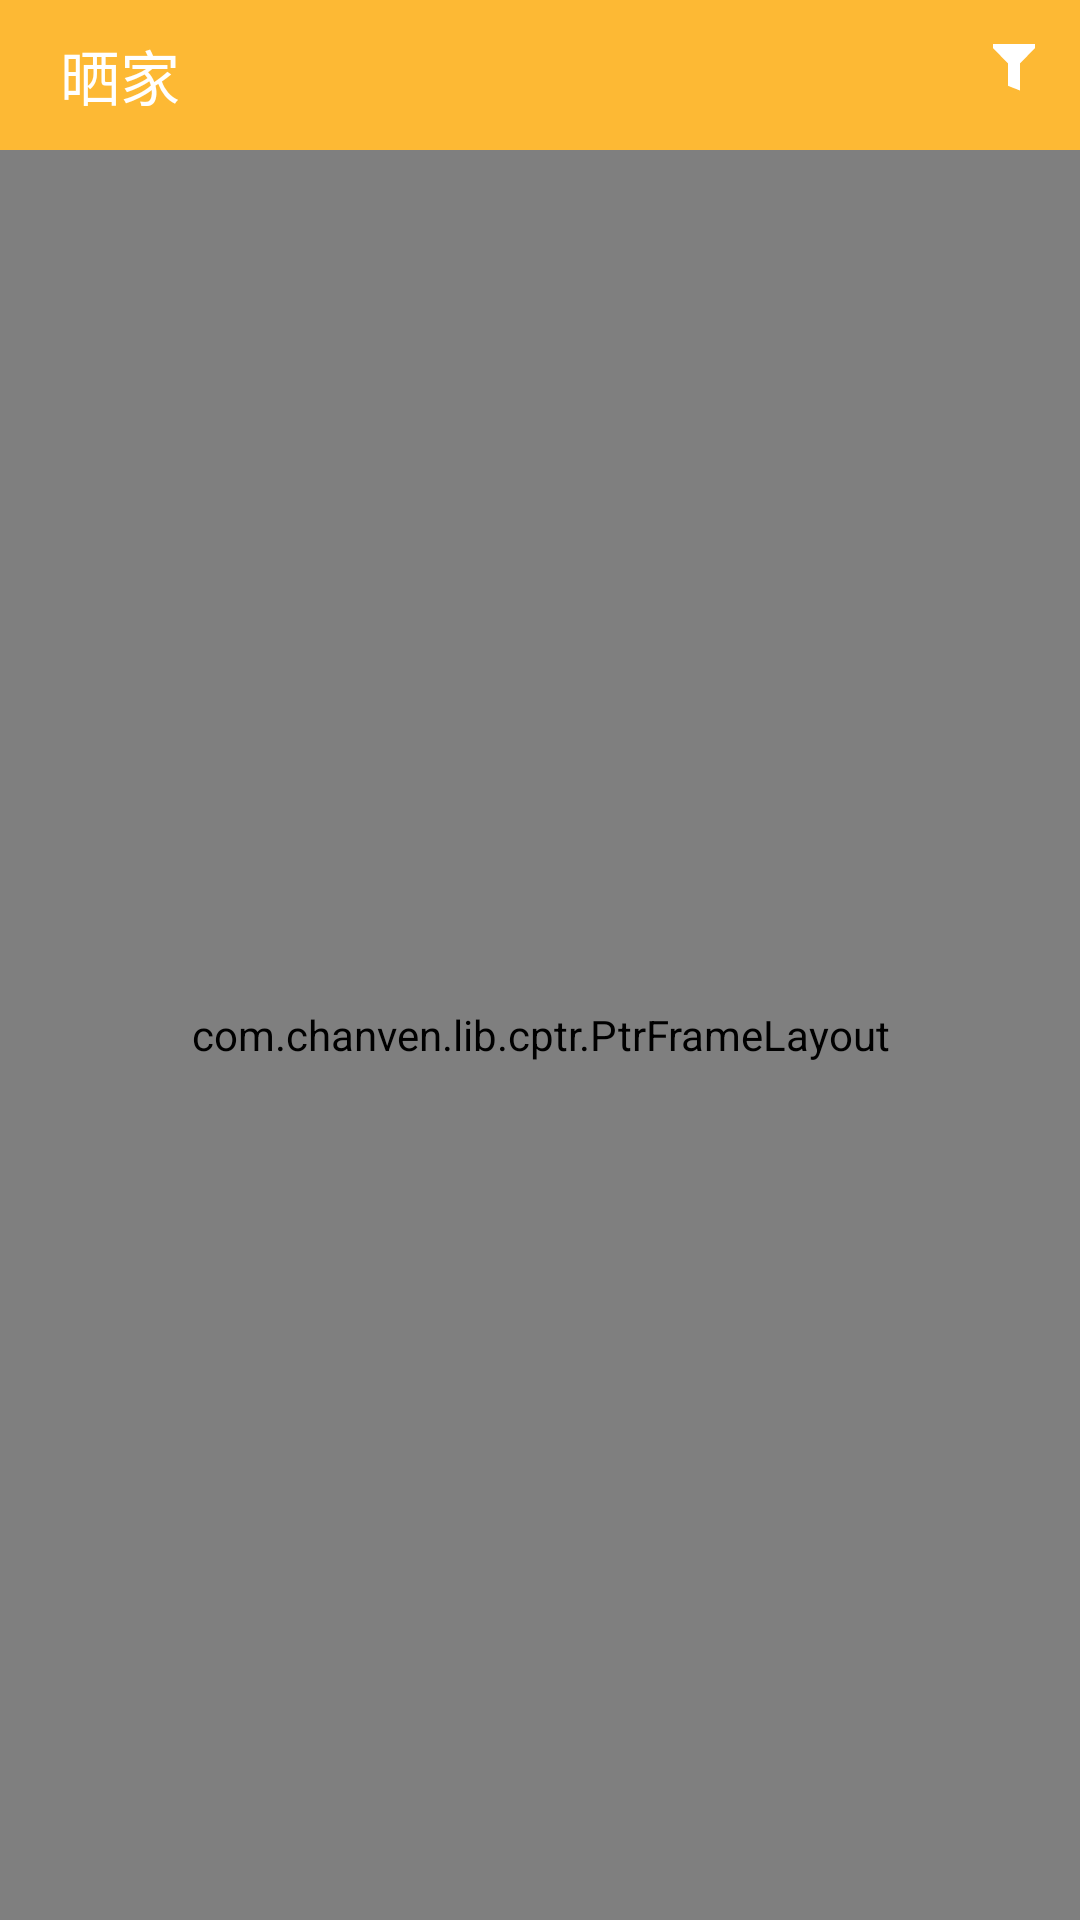

Icons on this 1080px x 1920px Android screen, each with the point to tap as (x=x, y=y):
filter: (x=1014, y=67)
